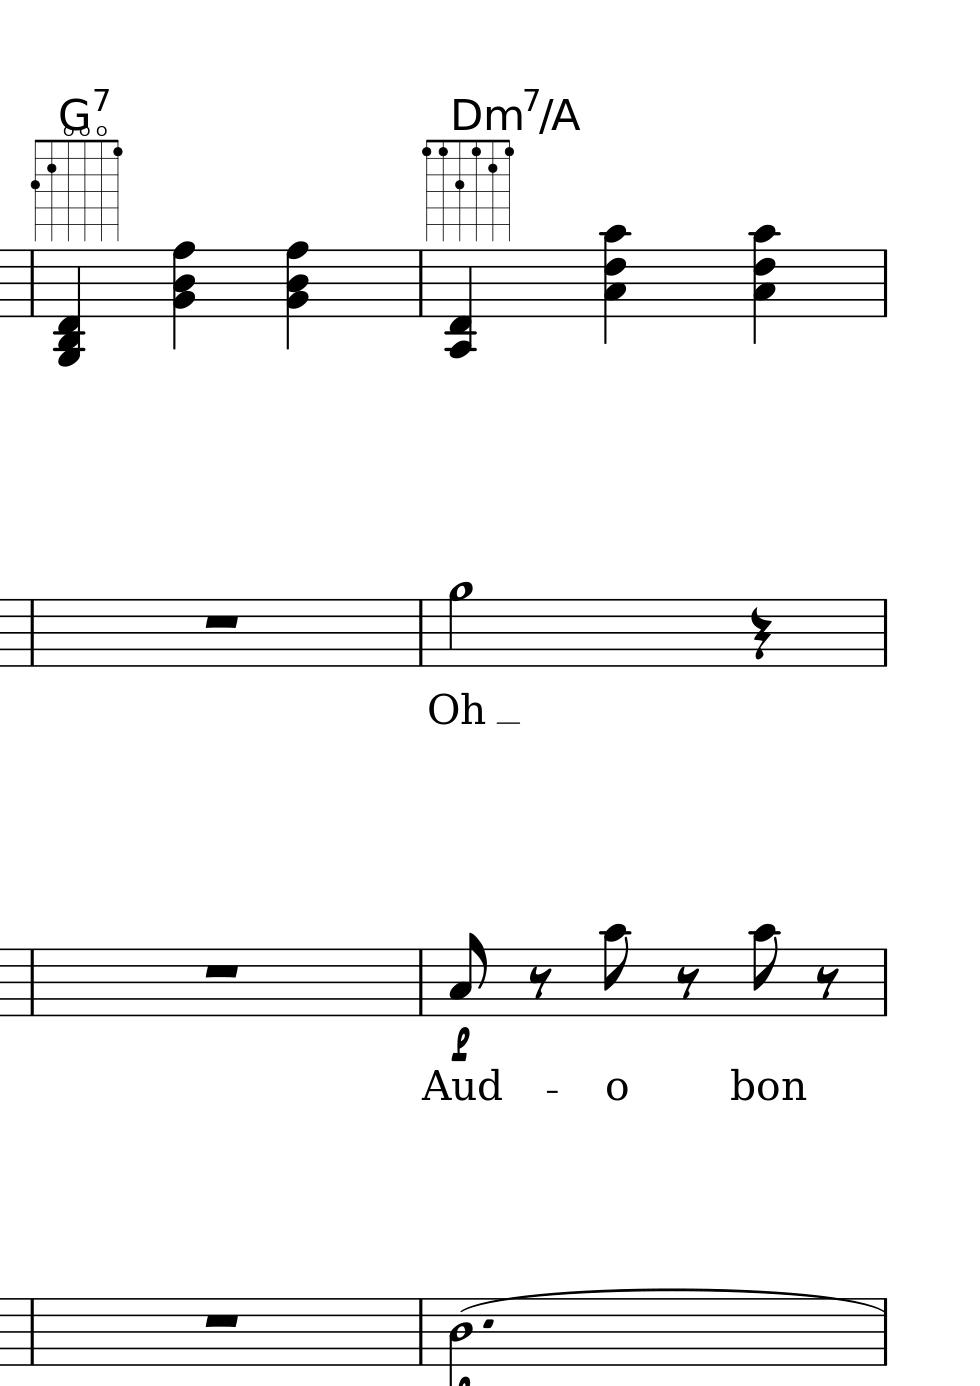2_4: (447, 1296, 473, 1386)
2_9: (448, 581, 475, 671)
4_-4_-1: (444, 248, 478, 358)
4_th: (51, 250, 86, 368), (598, 225, 630, 343), (747, 225, 778, 343), (169, 238, 196, 352), (283, 238, 310, 351)
7: (93, 84, 110, 113)
8_10: (747, 923, 783, 1019), (599, 923, 634, 1018)
8_3: (447, 931, 487, 1018)
Fretboard: (422, 136, 515, 244), (30, 137, 123, 244)
Rests1: (200, 611, 243, 632), (200, 961, 243, 982), (200, 1310, 243, 1331)
Rests4: (749, 606, 772, 664)
Rests8: (813, 965, 840, 1002), (525, 966, 552, 1000), (673, 965, 699, 1000)
Single_barline: (875, 250, 894, 317), (876, 599, 893, 667), (412, 251, 428, 318), (876, 949, 893, 1016), (23, 251, 40, 317), (412, 949, 428, 1014), (413, 1298, 428, 1366), (23, 599, 39, 666), (413, 599, 428, 666), (23, 949, 39, 1016), (23, 1298, 39, 1365), (878, 1299, 892, 1366)
dot: (482, 1318, 496, 1332)
p: (447, 1027, 470, 1063)
